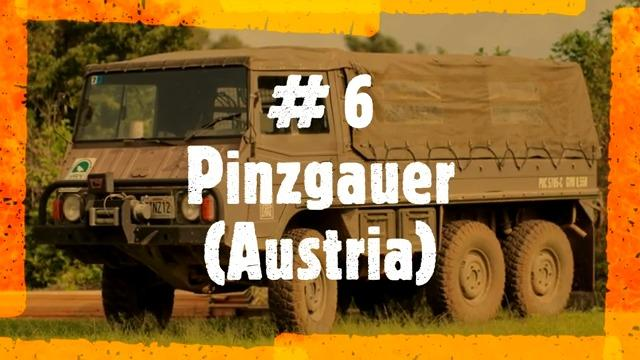MIL_HMMWV: (39, 47, 601, 334)
